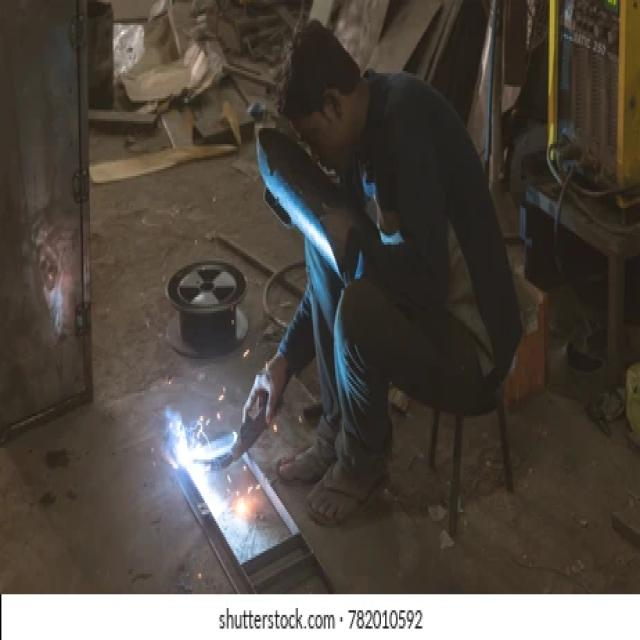without_helmet: (280, 14, 367, 175)
